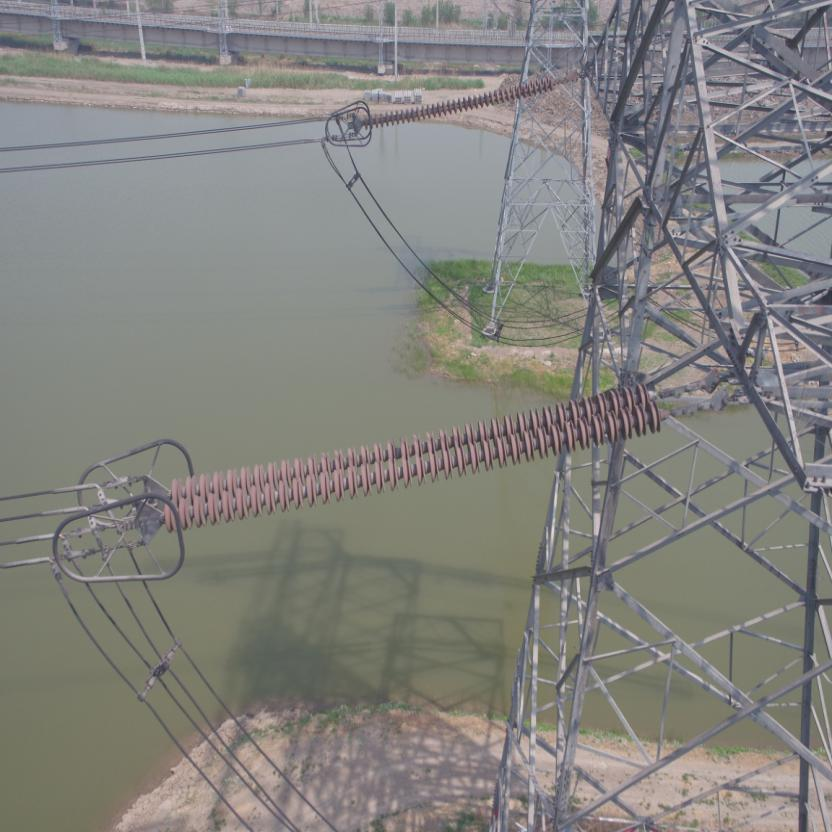insulator: (150, 378, 688, 534), (358, 70, 568, 128)
